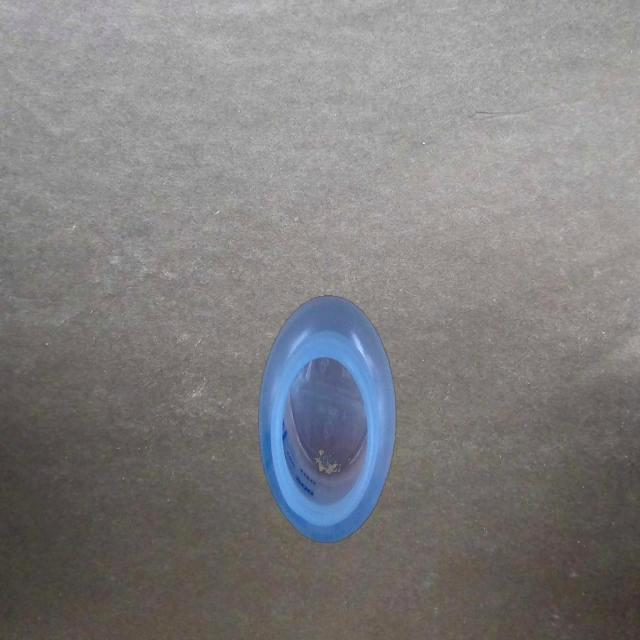bottle: (255, 289, 400, 549)
